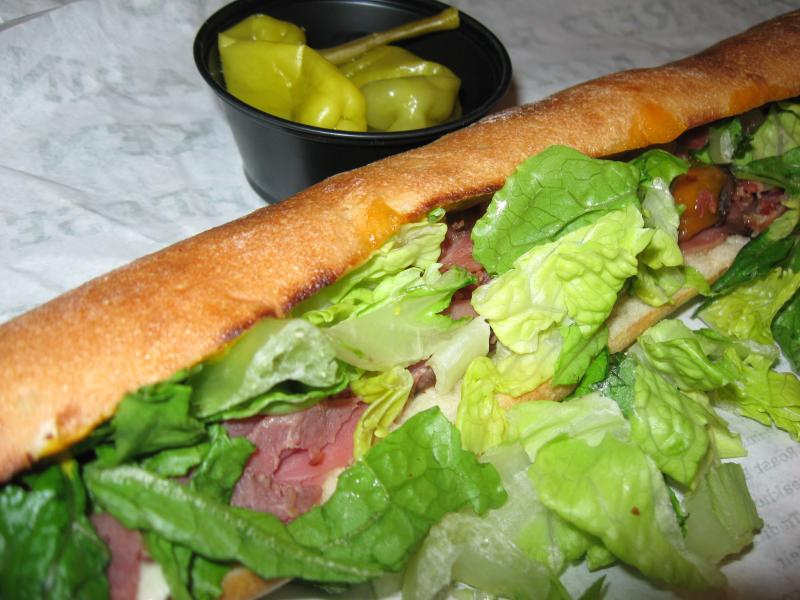chopped lettuce: (46, 277, 782, 600)
slice of bread: (28, 8, 797, 269)
